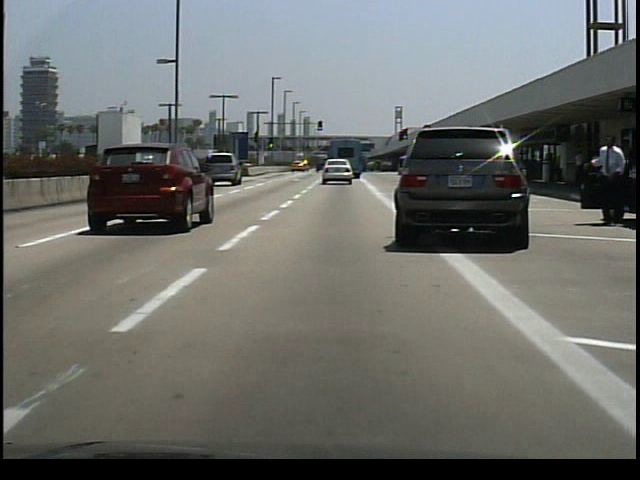person: (581, 131, 623, 227)
